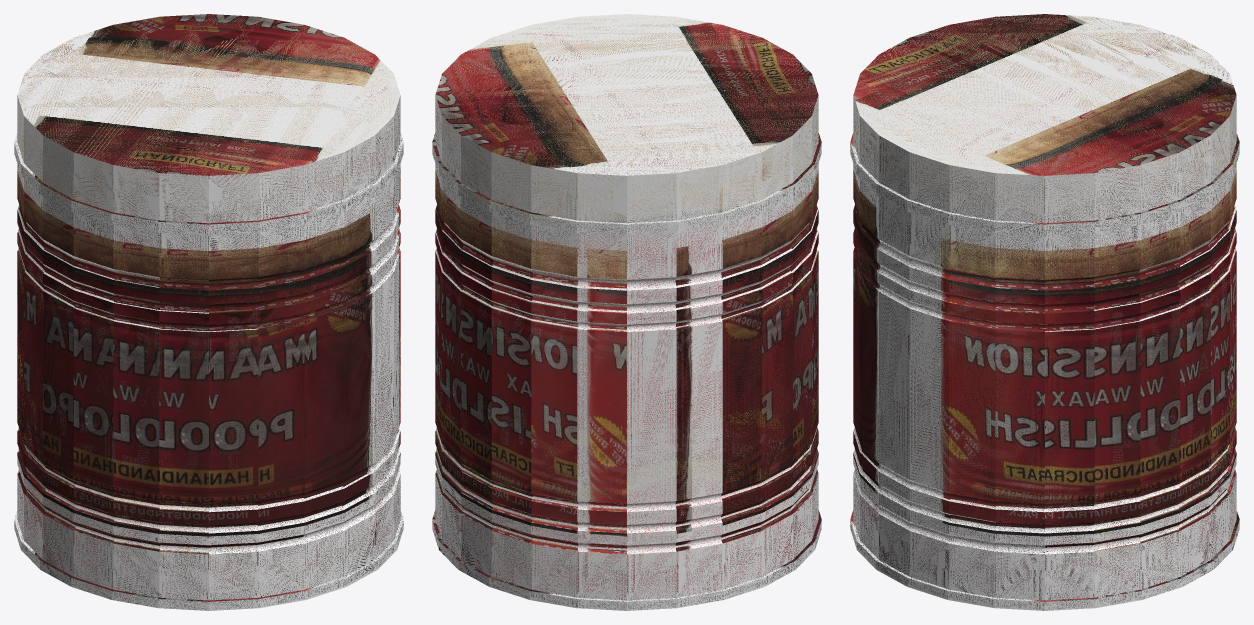
3 renders of one model, left to right at view 1: azimuth 30°, elevation 25°; view 2: azimuth 150°, elevation 25°; view 3: azimuth 270°, elevation 25°, orthographic.
Visible parts, largest first — view 1: mesh1_mesh1-geometry; view 2: mesh1_mesh1-geometry; view 3: mesh1_mesh1-geometry.
Boxes of the visible parts, x1,y1,x2,y2 form: mesh1_mesh1-geometry: (14,14,403,610); mesh1_mesh1-geometry: (432,14,821,610); mesh1_mesh1-geometry: (850,14,1239,610).
Size of the model in its own units: 0.5338 by 0.6558 by 0.5338.
3 materials, 3 textured.
